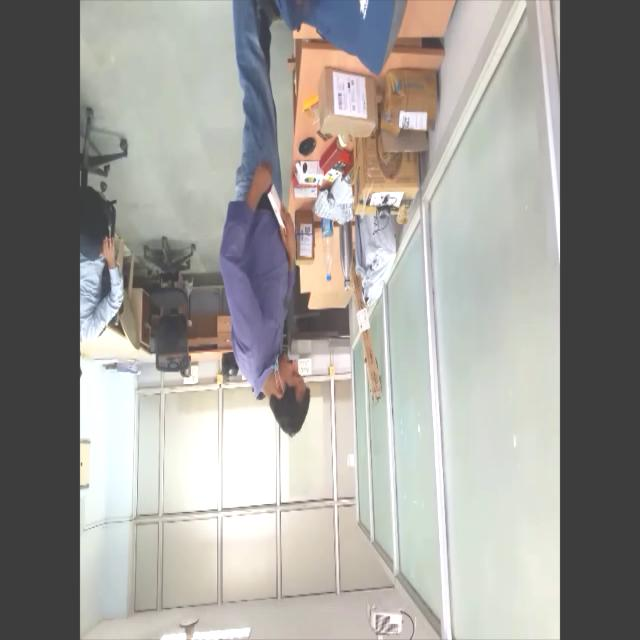shoplifting: (214, 0, 316, 440)
